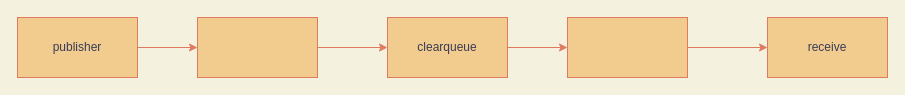
This 905x95 diagram has some shape labels left out. The shapes that lost their labels are listed below. From the top down, each one's centre as x and y in pixels, then its label:
At (257,47): "source queue".
At (627,47): "destination queue".
